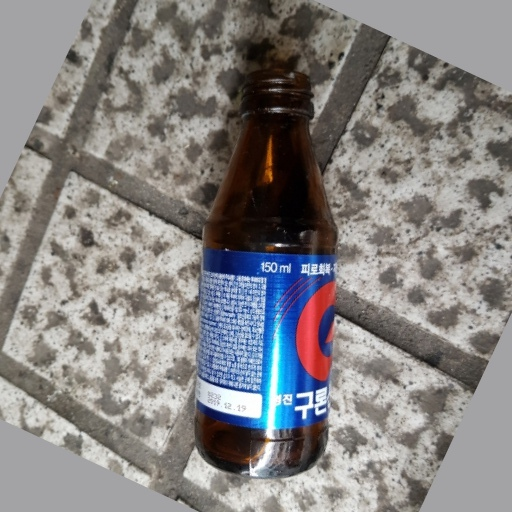Glass_3: (191, 69, 342, 480)
